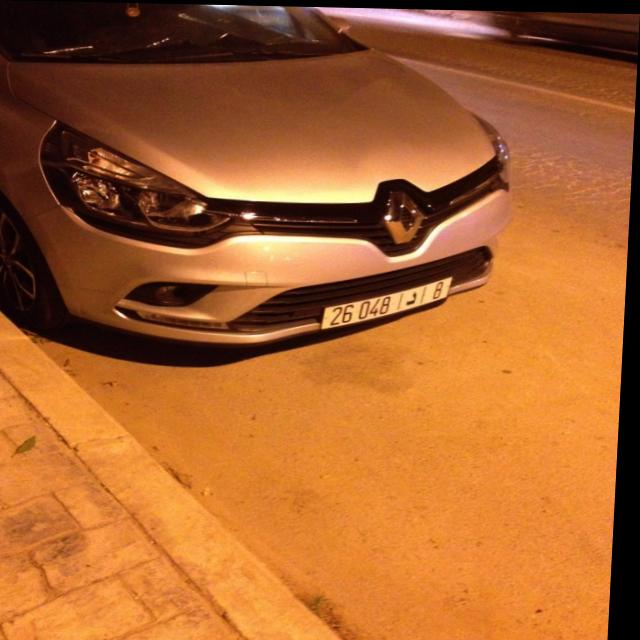License-Plate: (324, 276, 456, 328)
